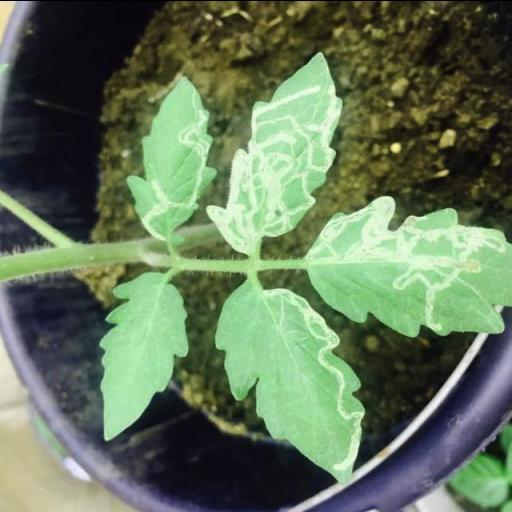disease_tomato: (216, 286, 366, 482), (306, 190, 512, 332), (206, 49, 344, 252), (124, 70, 214, 246)
